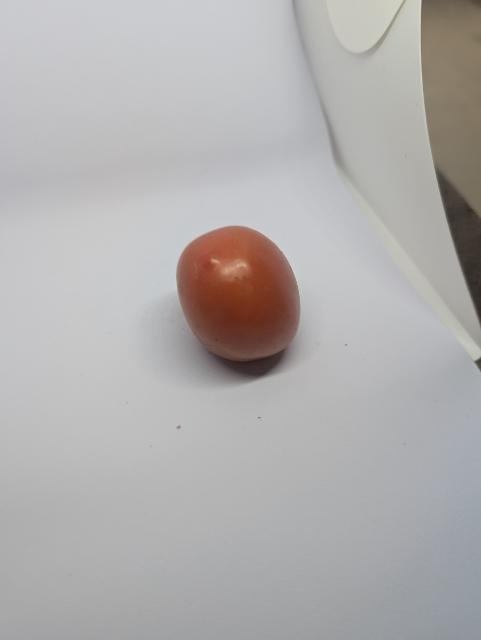red: (166, 219, 312, 374)
